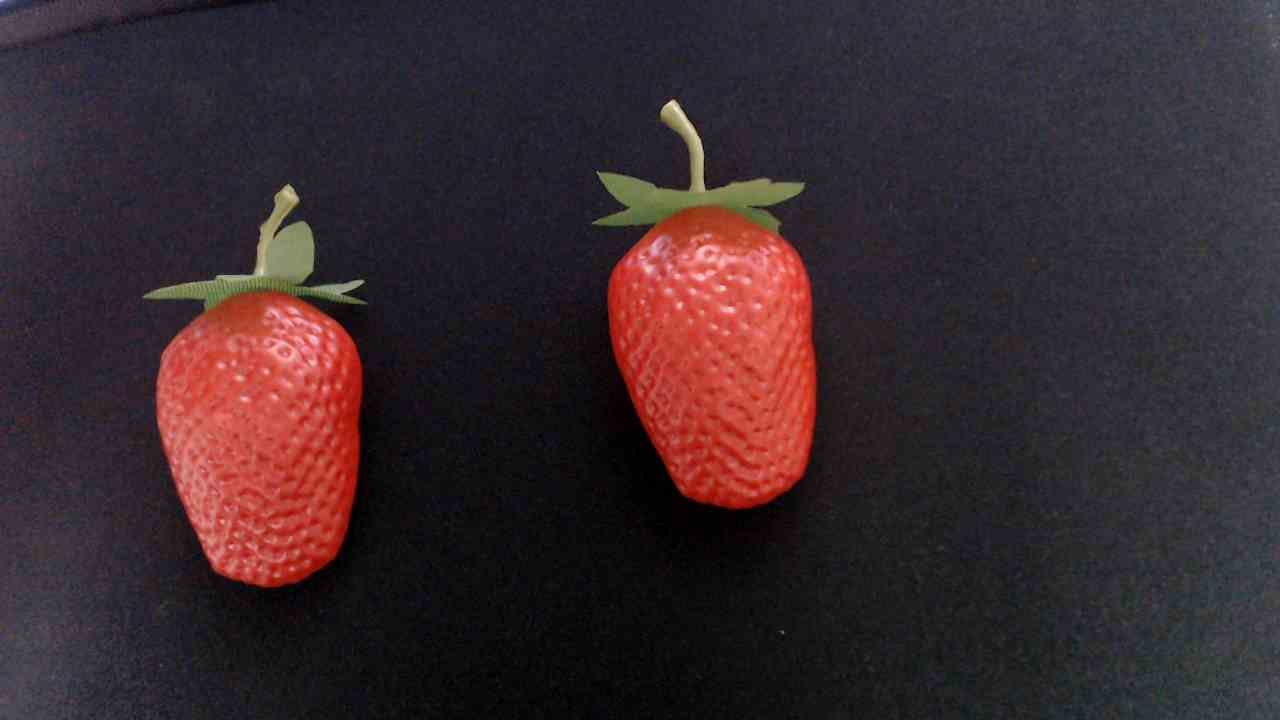strawberry: (586, 164, 831, 517), (146, 271, 379, 596)
